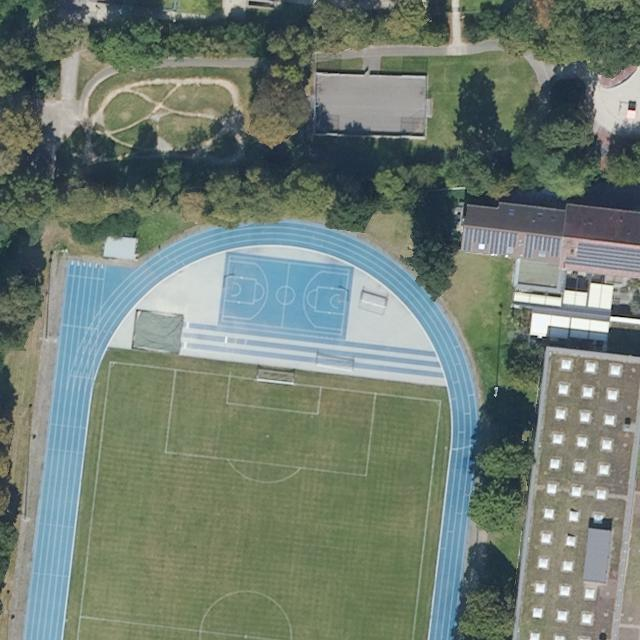PV: (564, 242, 639, 272), (458, 224, 521, 258), (521, 232, 562, 260)
